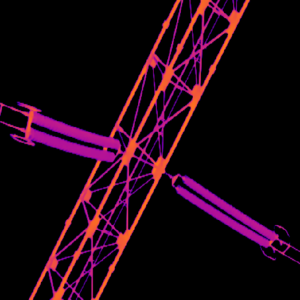insulator: (180, 170, 278, 241), (174, 183, 269, 248), (27, 106, 120, 150), (25, 126, 114, 162)
